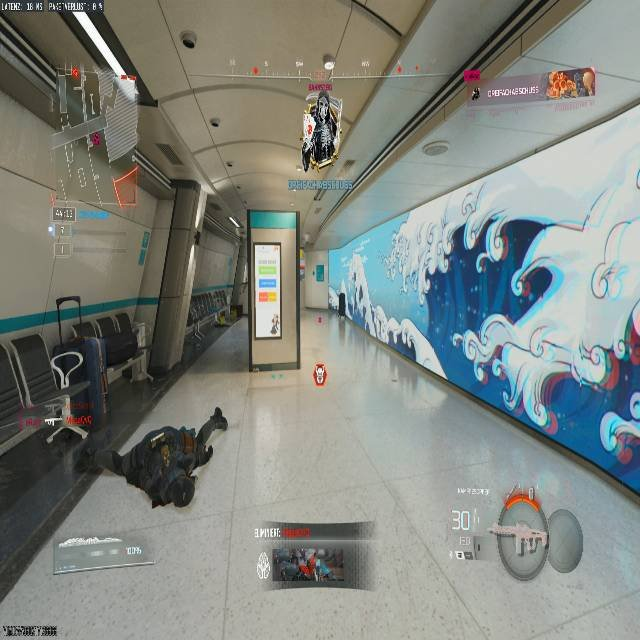player: (303, 85, 340, 170), (471, 86, 480, 100)
